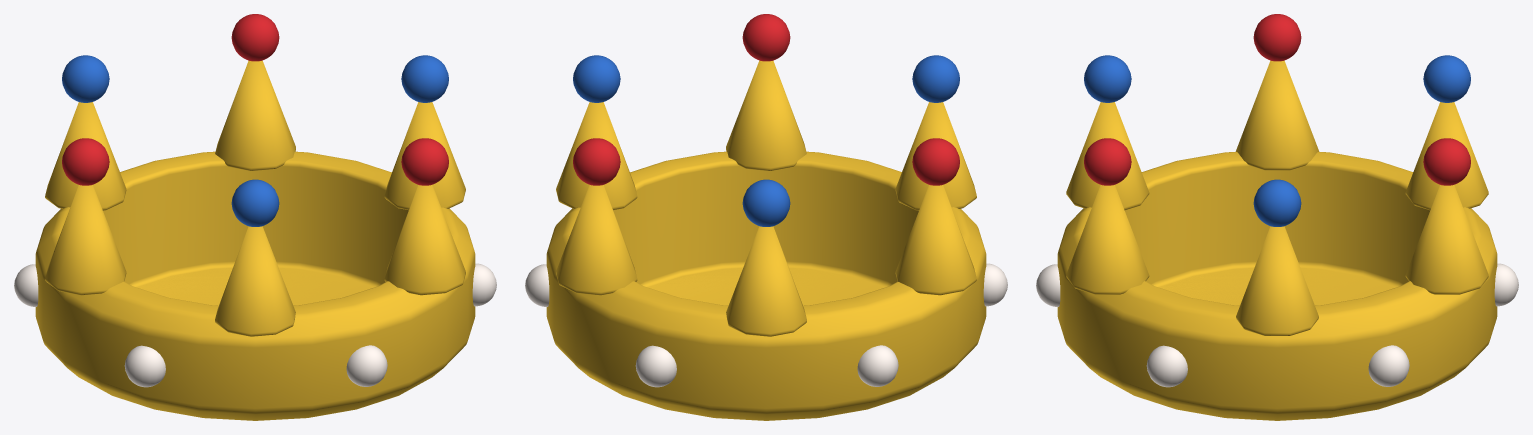
Rendered from crown.glb.
3 views of the same model, side by side, from view 1: azimuth 30°, elevation 25°; view 2: azimuth 150°, elevation 25°; view 3: azimuth 270°, elevation 25° (orthographic).
Visible parts, largest first — view 1: crown; view 2: crown; view 3: crown.
Part boxes in pixels (x1,y1,x2,y2): crown: (14,14,496,420); crown: (525,14,1007,420); crown: (1036,14,1518,420).
Size of the model in its own units: 0.9854 by 0.55 by 1.01.
